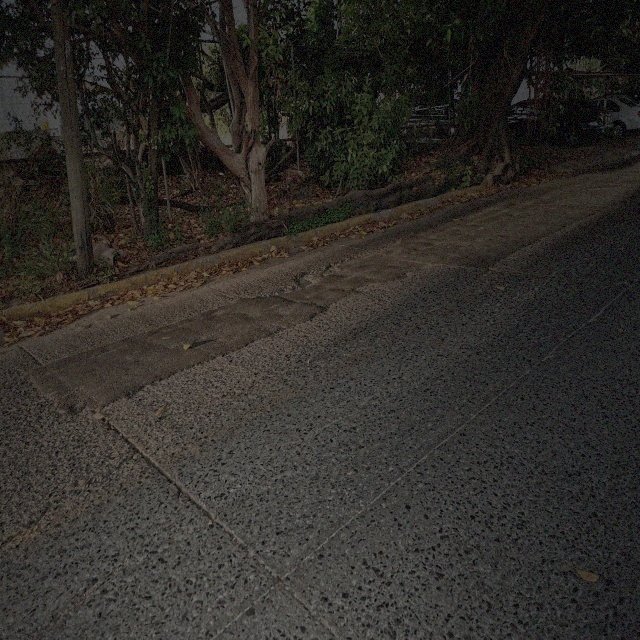pothole: (277, 252, 350, 302)
